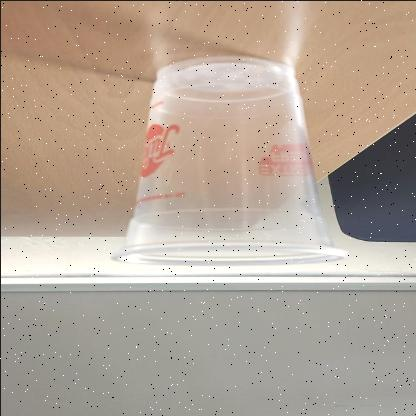Others: (106, 55, 346, 267)
